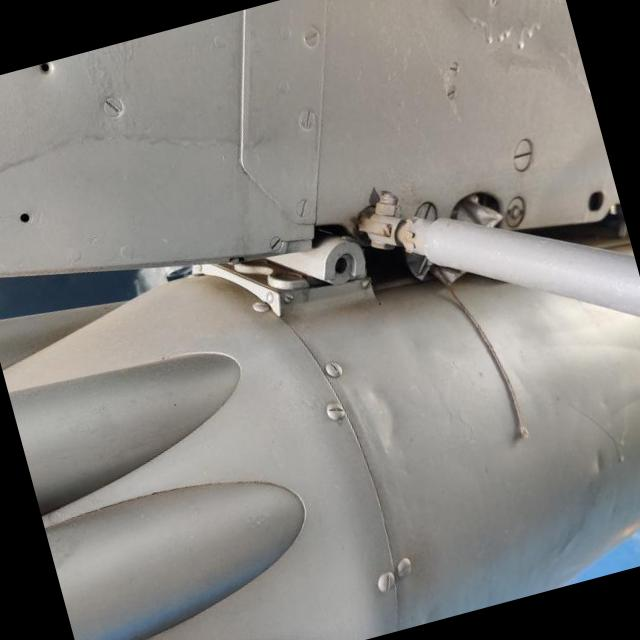Dent: (345, 386, 403, 455)
